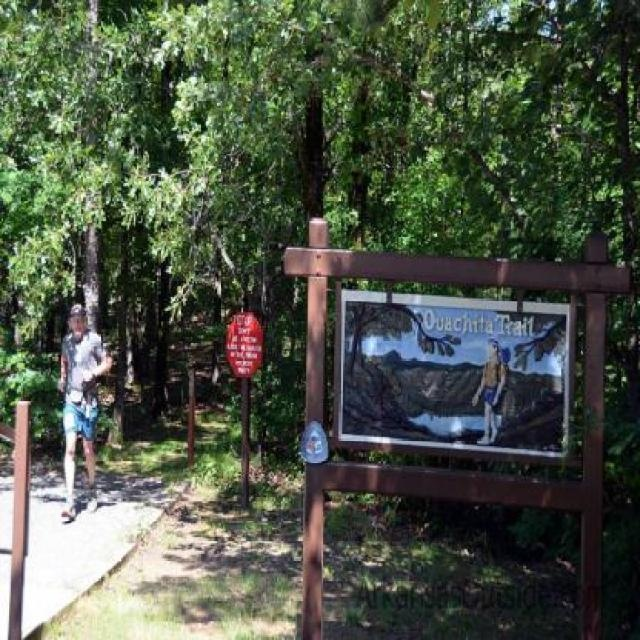obstacle: (55, 294, 107, 517), (471, 340, 509, 445)
